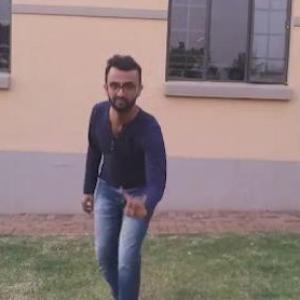takeoff-hand: (114, 177, 152, 228)
